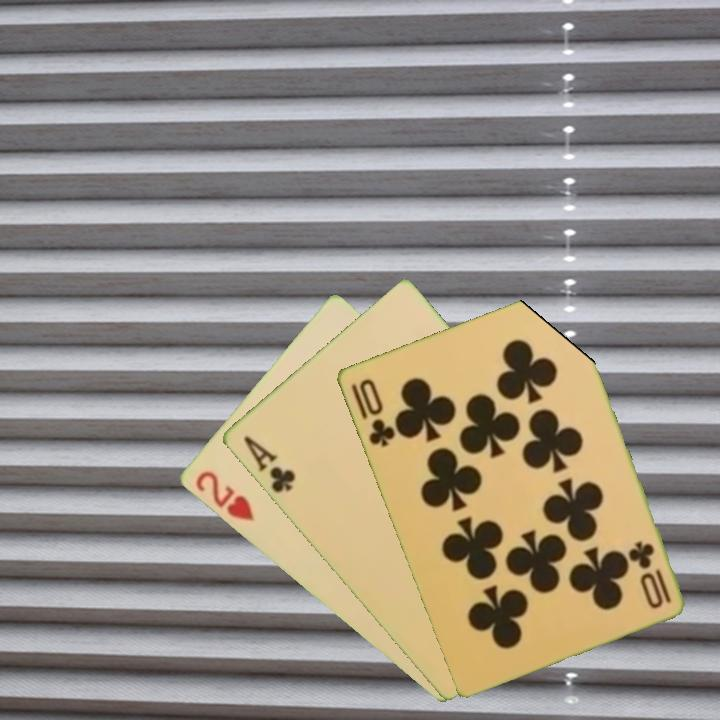10c: (347, 375, 398, 450), (626, 537, 674, 612)
2h: (191, 467, 257, 525)
Ac: (239, 432, 298, 496)
